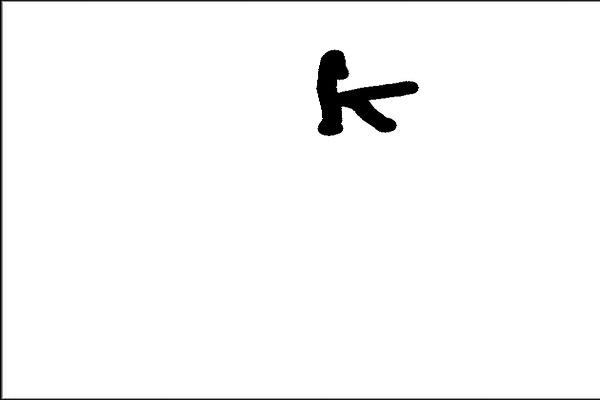K: (306, 45, 424, 140)
